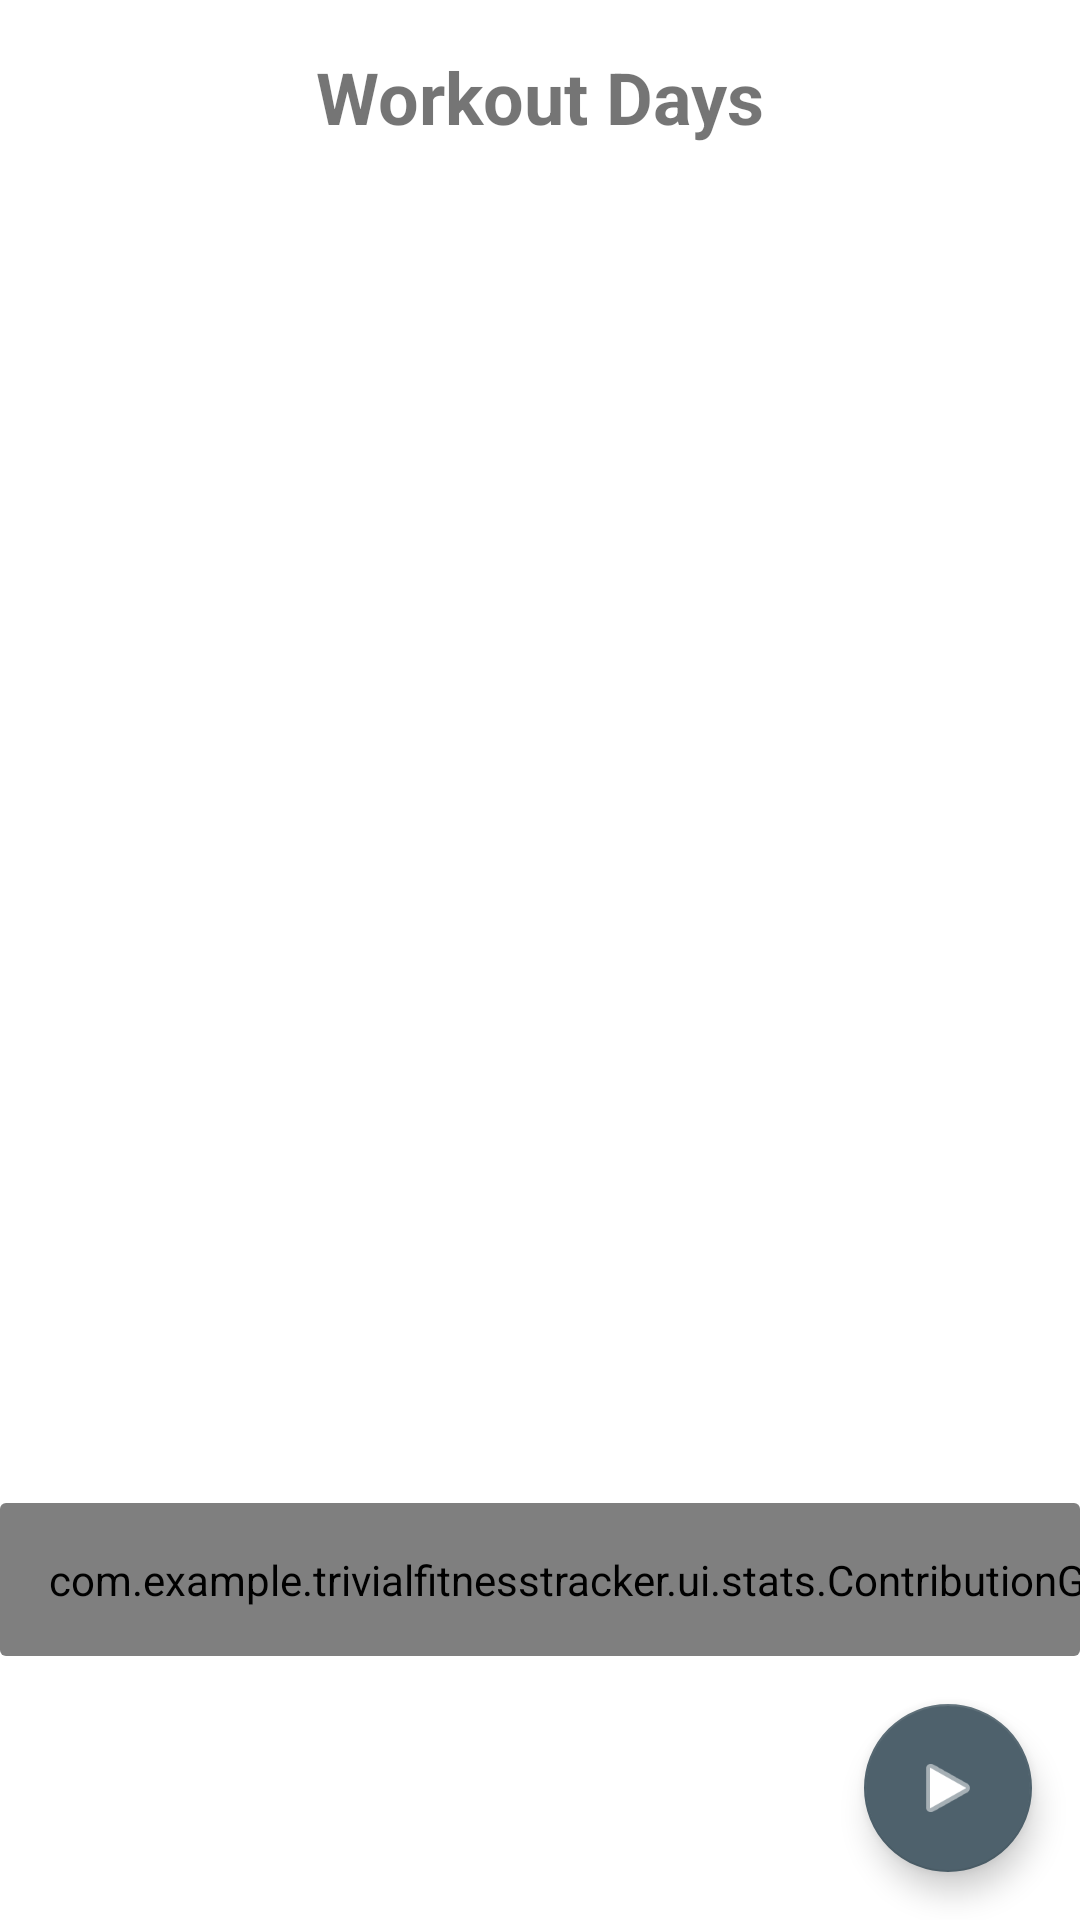

Icons on this 1080x1920 Android screen, each with the point to tap as point (x, y):
Start Workout: point (948, 1788)
